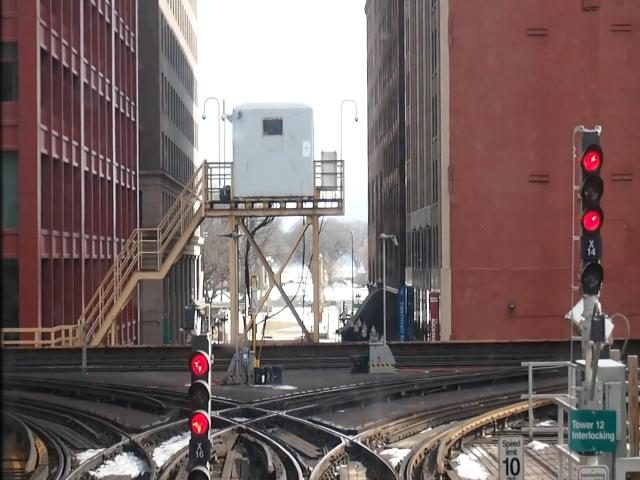signal light: (577, 127, 607, 298), (190, 333, 213, 480)
